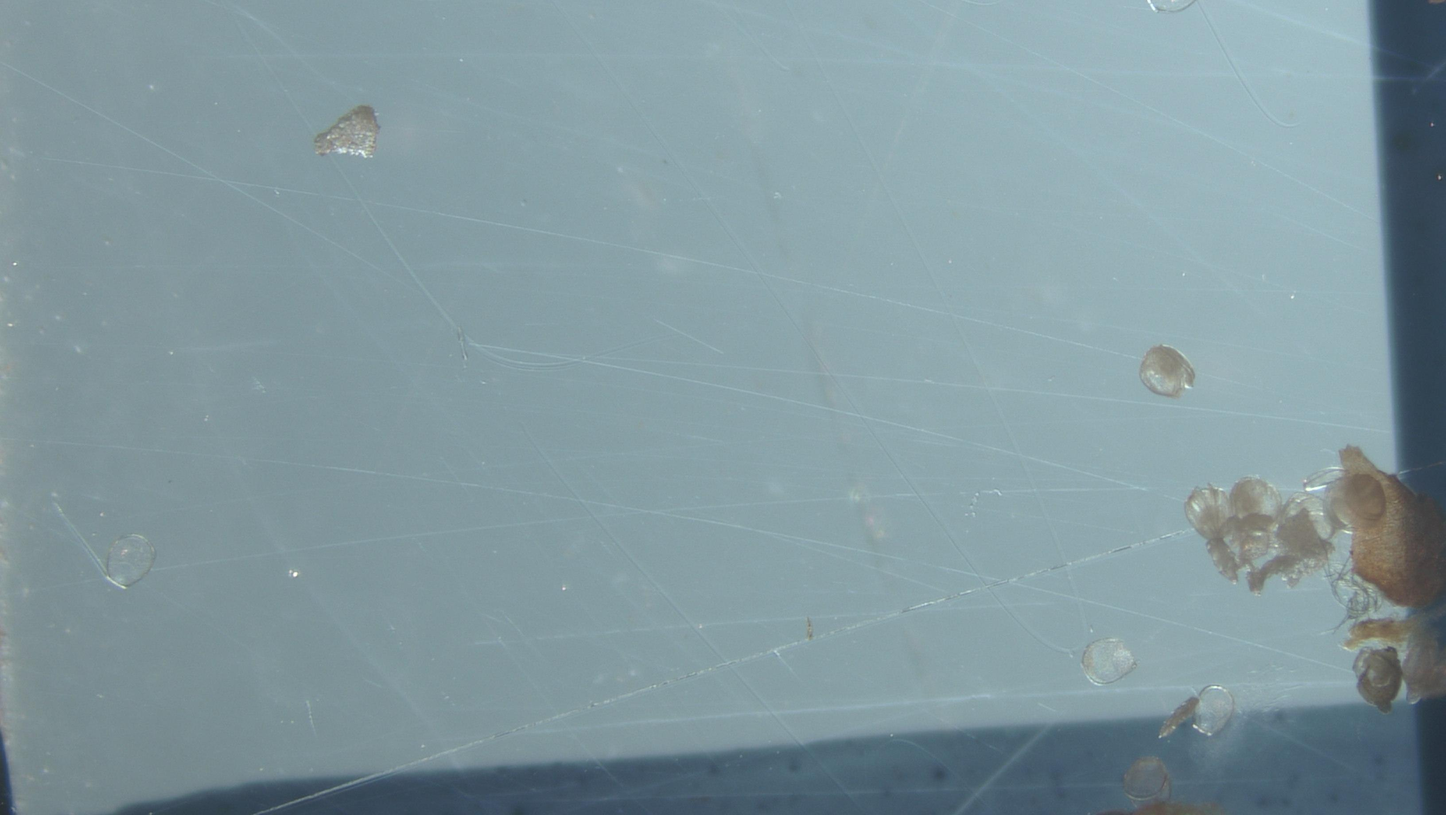dead: (105, 534, 155, 588), (1081, 638, 1137, 686), (1192, 686, 1236, 736), (1123, 757, 1170, 803)
live: (1139, 345, 1196, 399)
